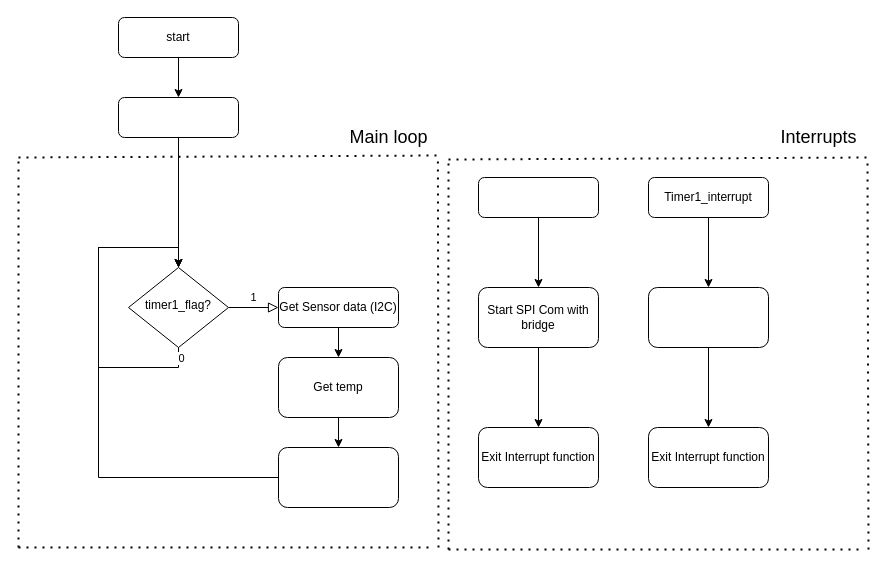
This 889x569 diagram has some shape labels left out. Here are the shapes that lost their labels. From the top down, the centre of each, then its label:
At (x=178, y=117): "Init functions".
At (x=538, y=197): "IOC_interrupt".
At (x=708, y=317): "Set timer1_flag".
At (x=338, y=477): "Get RGB".
